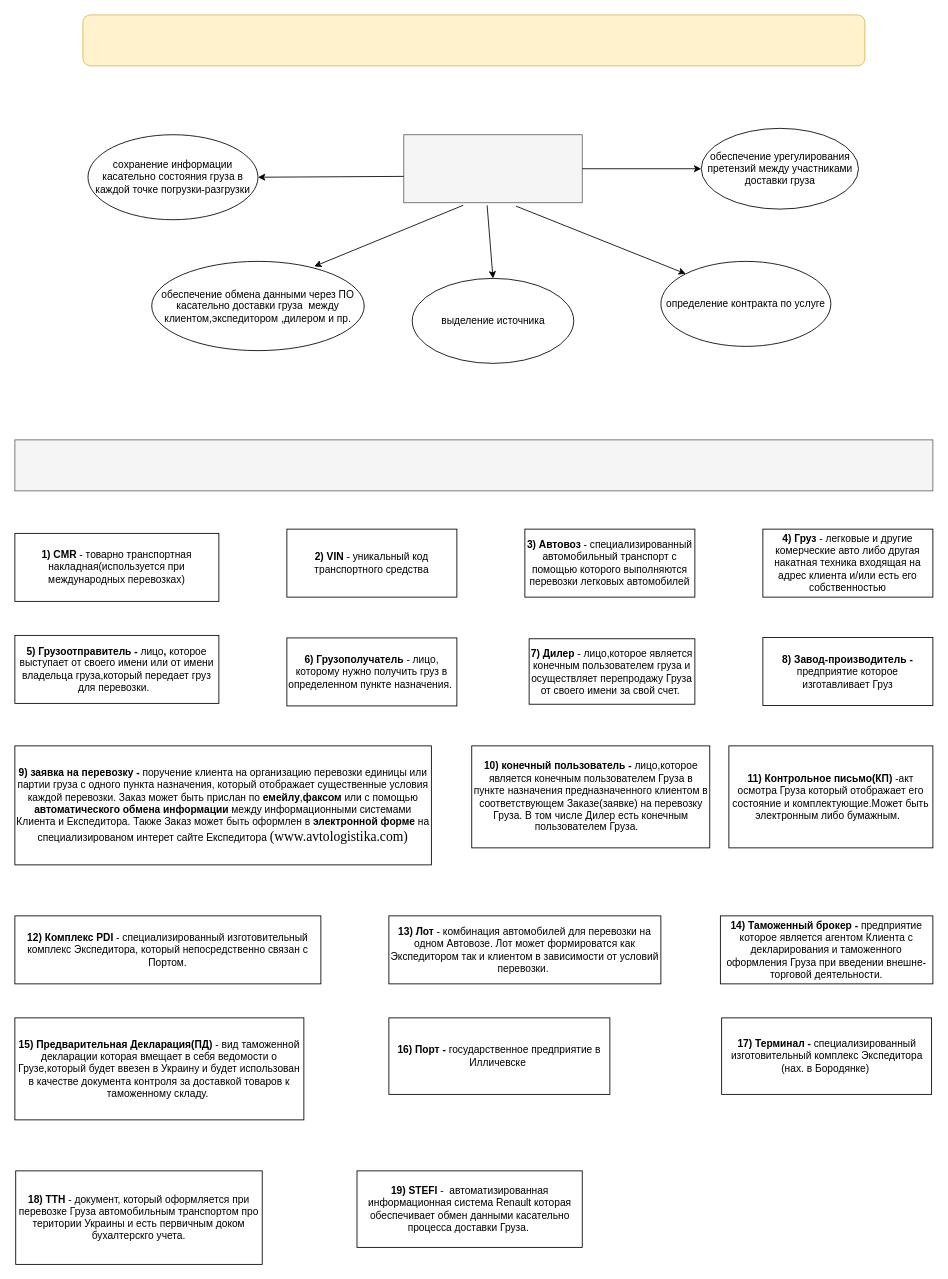
Some shapes in this 948 by 1279 pixel diagram are drawn without their labels. Each missing label, with the centre of its shape:
Контракт Renault: the point at 473,40
Сущности контракта: the point at 473,465
Функции контракта: the point at 492,168
